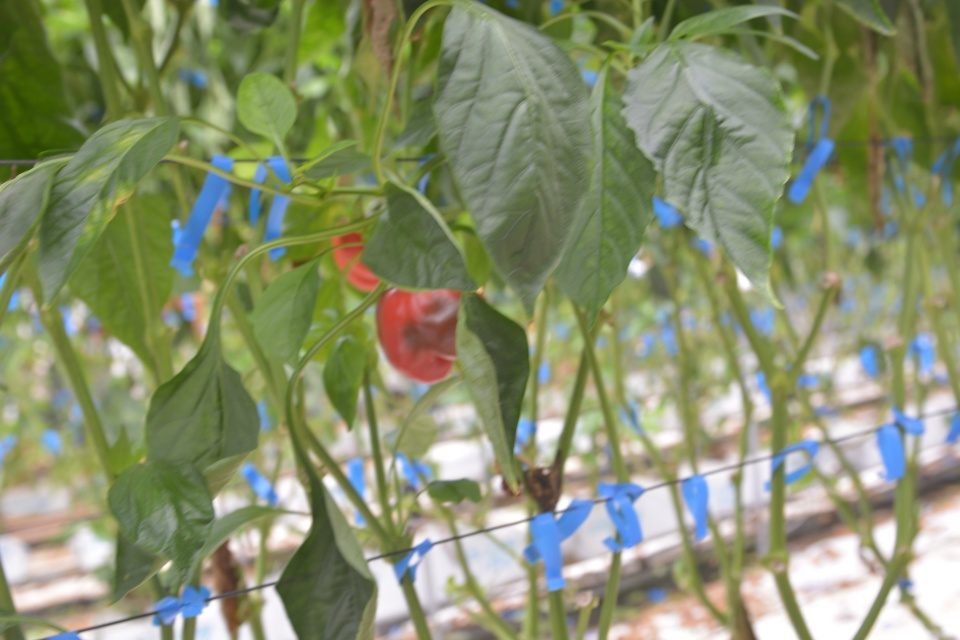fruit: (375, 284, 462, 387), (332, 216, 383, 292)
